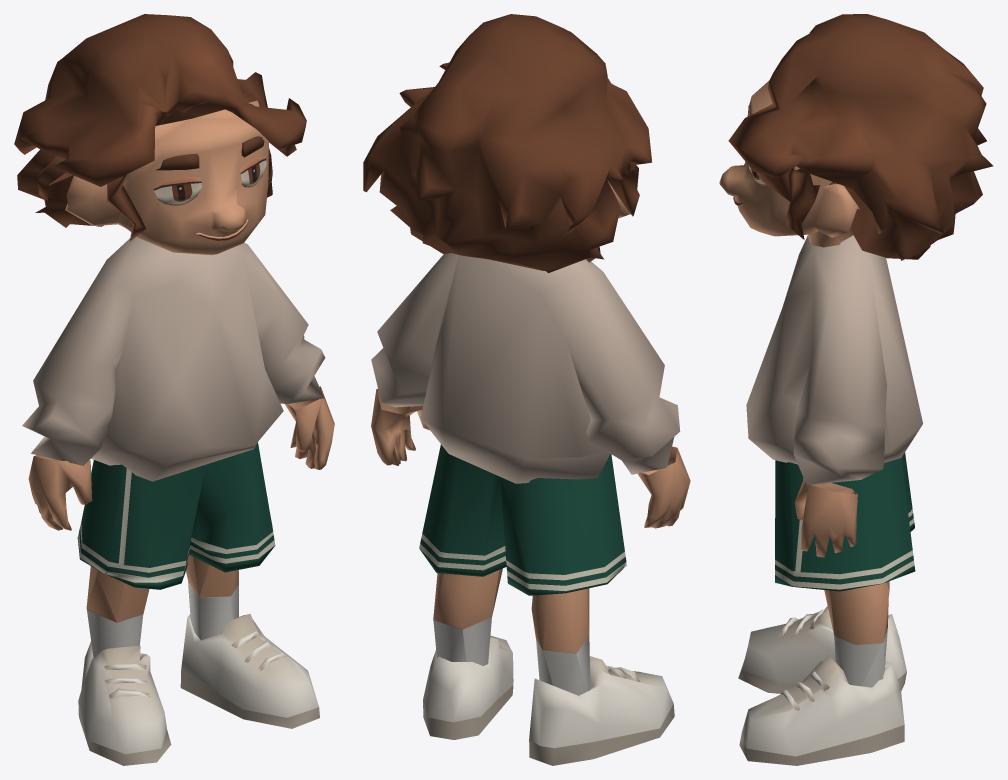
Rendered from host_q_tripo_p20_r2s2_barehead.glb.
3 renders of one model, left to right at view 1: azimuth 30°, elevation 25°; view 2: azimuth 150°, elevation 25°; view 3: azimuth 270°, elevation 25°, orthographic. The views are drawn at different scales.
Parts seen in each view (by area): view 1: HostBody; view 2: HostBody; view 3: HostBody.
Part boxes in pixels (left/top/right/bottom): HostBody: left=14, top=14, right=334, bottom=765; HostBody: left=363, top=14, right=690, bottom=765; HostBody: left=719, top=14, right=993, bottom=765.
Bounding box in the file's own units: 0.5683 × 1.25 × 0.4532.
